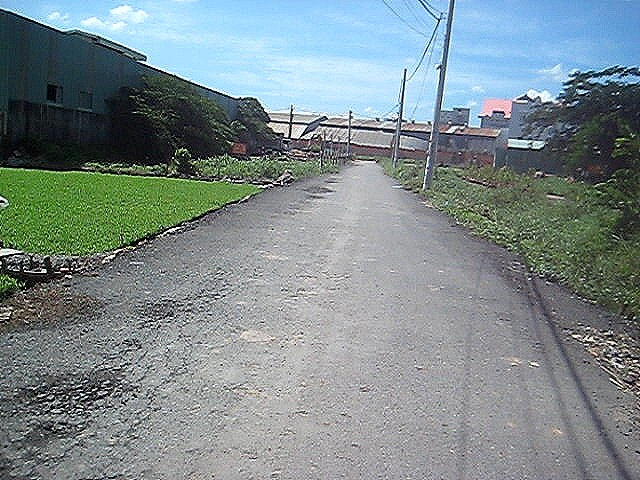hole: (7, 365, 138, 449), (131, 293, 194, 324), (301, 186, 336, 194), (323, 177, 343, 184), (302, 196, 328, 200)
